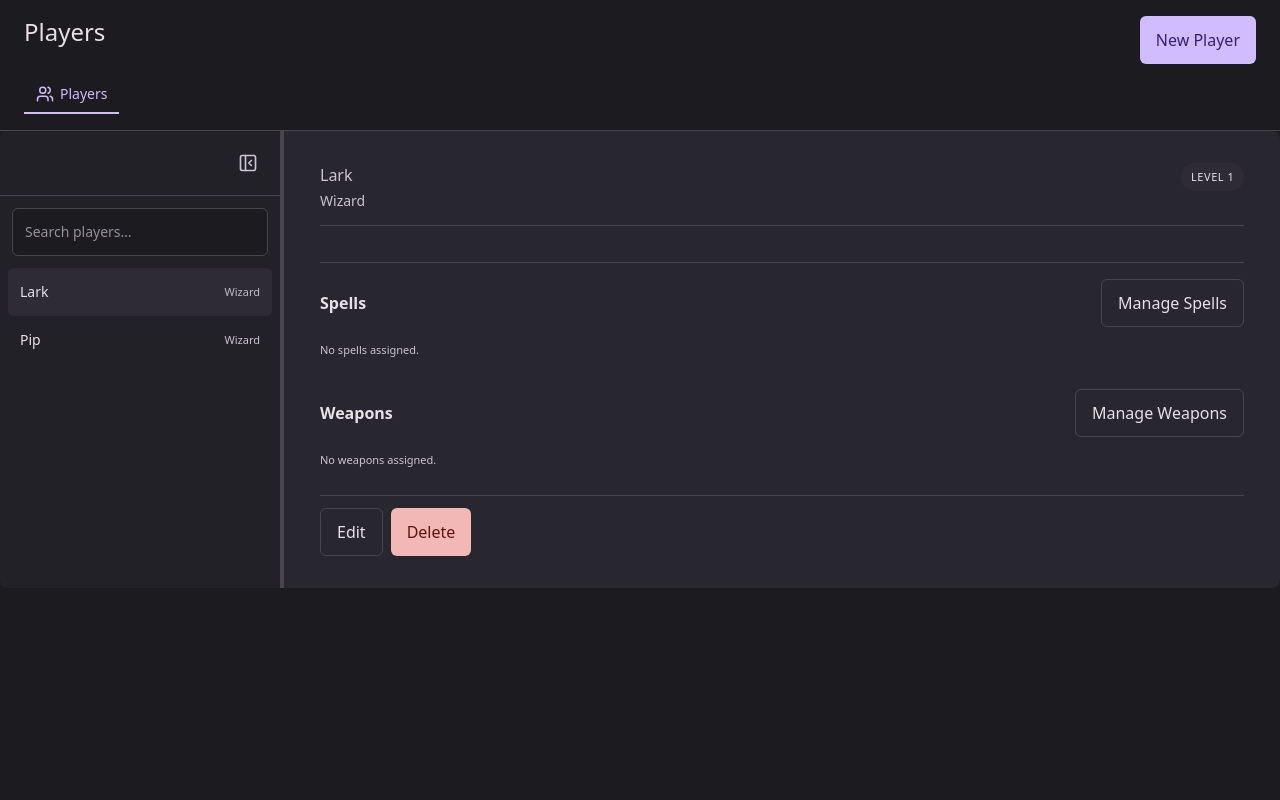
Test: PlayerBrowserPage › opens the editor when New Player is clicked
This screenshot has width=1280, height=800.
Expected: the heading "Lark" is shown, [320,164,352,186]
Click the button "New Player" at (1198, 40), box [1140,16,1256,64]
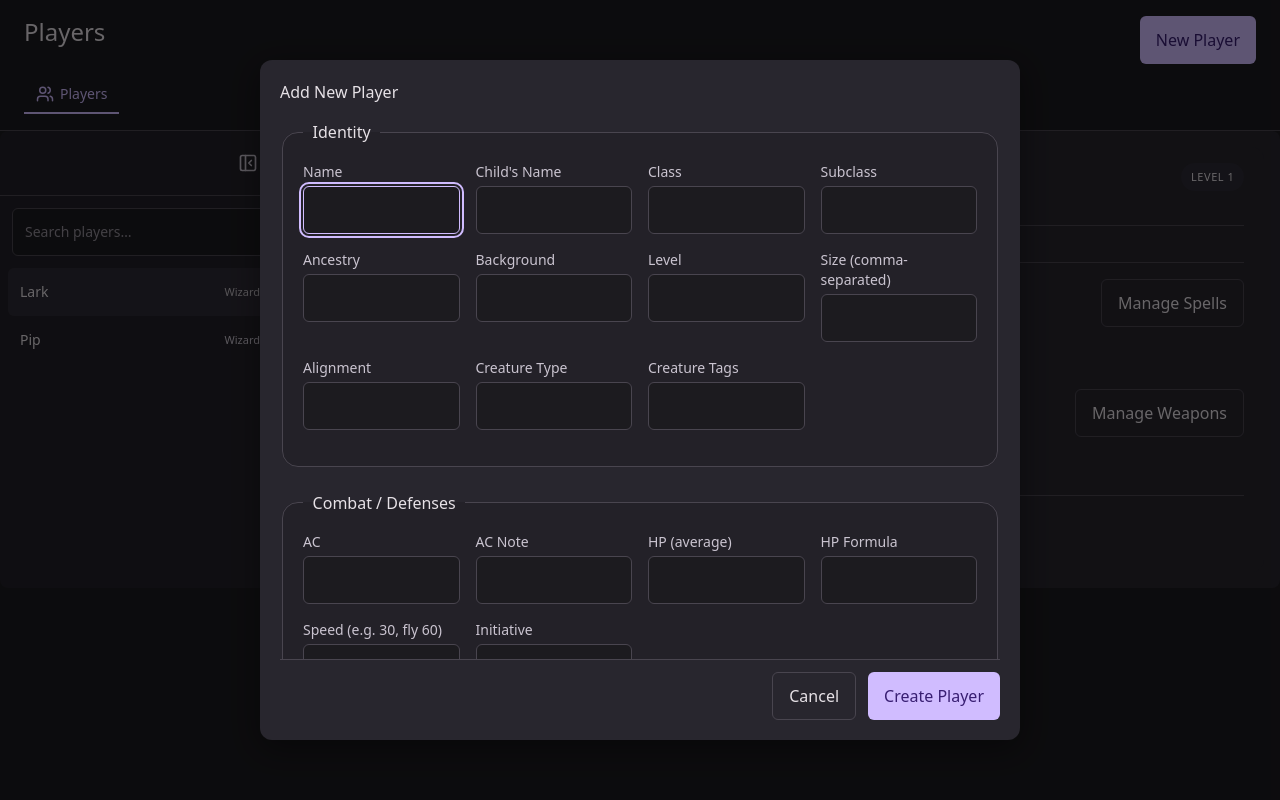
Expected: the dialog "Add New Player" is shown, [260,60,1020,740]
